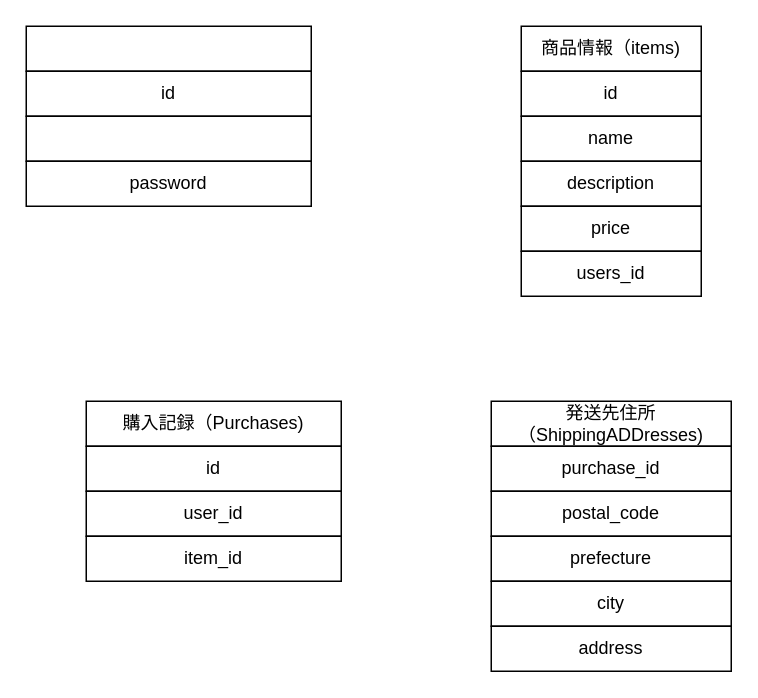
Some shapes in this 758 by 698 pixel diagram are drawn without their labels. The shapes that lost their labels are listed below. From the top down, each one's centre as x and y in pixels, then its label:
At (168,48): "ユーザー情報（Users)".
At (168,138): "email".
